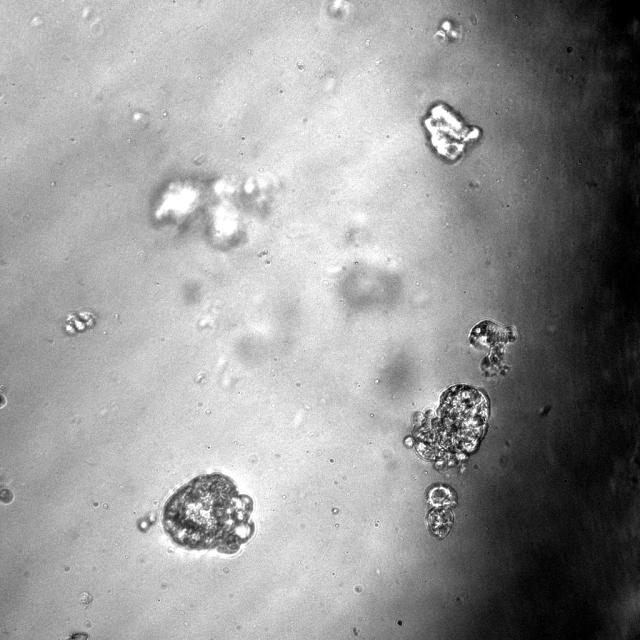organoid: (150, 174, 274, 249), (161, 472, 254, 555), (404, 384, 489, 469), (423, 103, 481, 163), (469, 319, 517, 377), (425, 482, 458, 539), (64, 309, 96, 336), (435, 17, 462, 42), (138, 512, 157, 532), (0, 486, 14, 504), (67, 631, 89, 639), (0, 392, 7, 408)
